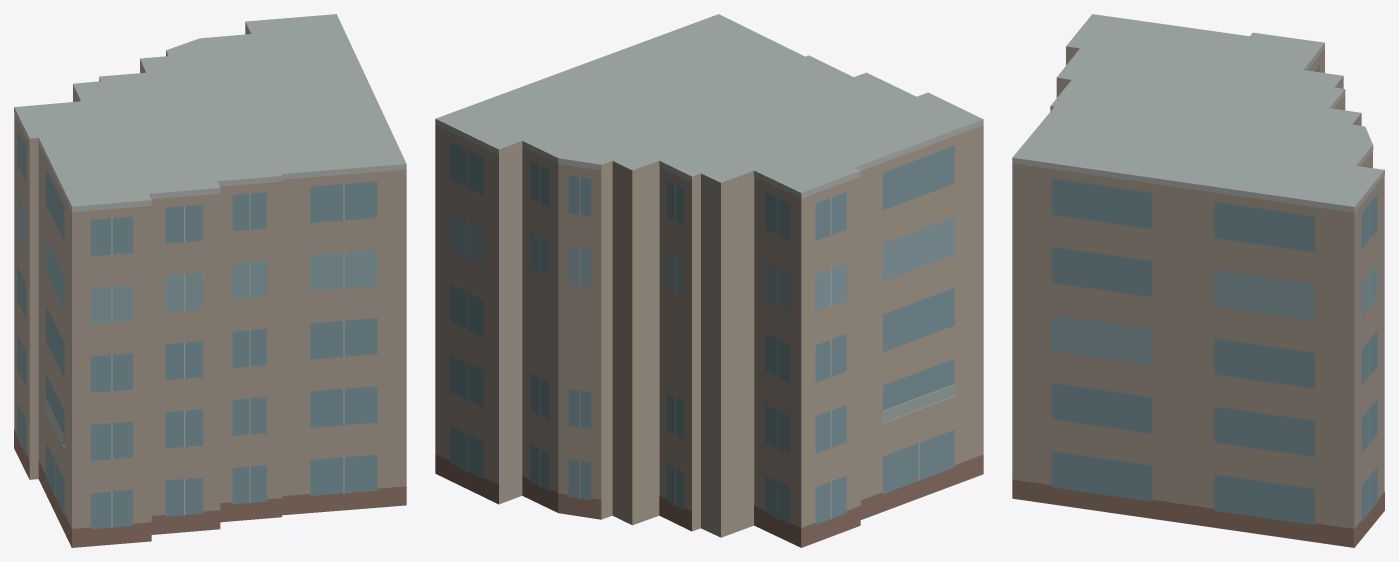
File: survey-upis-32946072.glb
The picture shows the model from 3 angles, left to right: view 1: azimuth 30°, elevation 25°; view 2: azimuth 150°, elevation 25°; view 3: azimuth 270°, elevation 25°; orthographic projection. The views are drawn at different scales.
Visible parts, largest first — view 1: survey-upis-32946072.tmp; view 2: survey-upis-32946072.tmp; view 3: survey-upis-32946072.tmp.
Boxes of the visible parts, bbox=[...] form: survey-upis-32946072.tmp: bbox=[14, 14, 406, 547]; survey-upis-32946072.tmp: bbox=[435, 14, 983, 547]; survey-upis-32946072.tmp: bbox=[1012, 14, 1384, 547].
Bounding box in the file's own units: 18.04 × 14.85 × 14.72.
